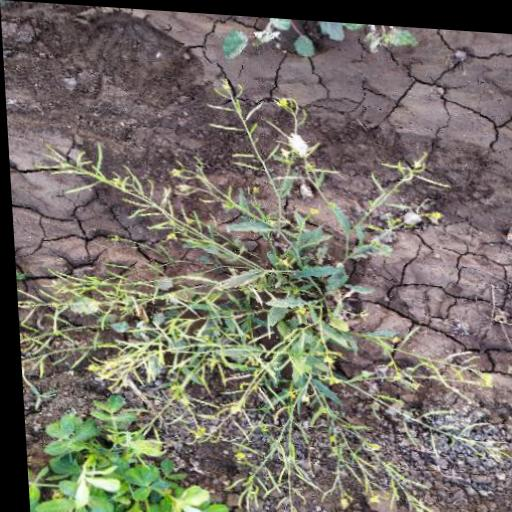weed: (3, 72, 512, 420), (19, 399, 220, 512)
